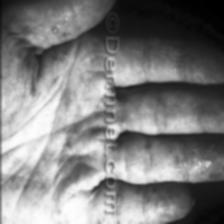Non-Cancerous Skin Condition: (17, 1, 84, 224), (126, 148, 186, 214), (164, 104, 224, 130), (193, 139, 224, 180)
